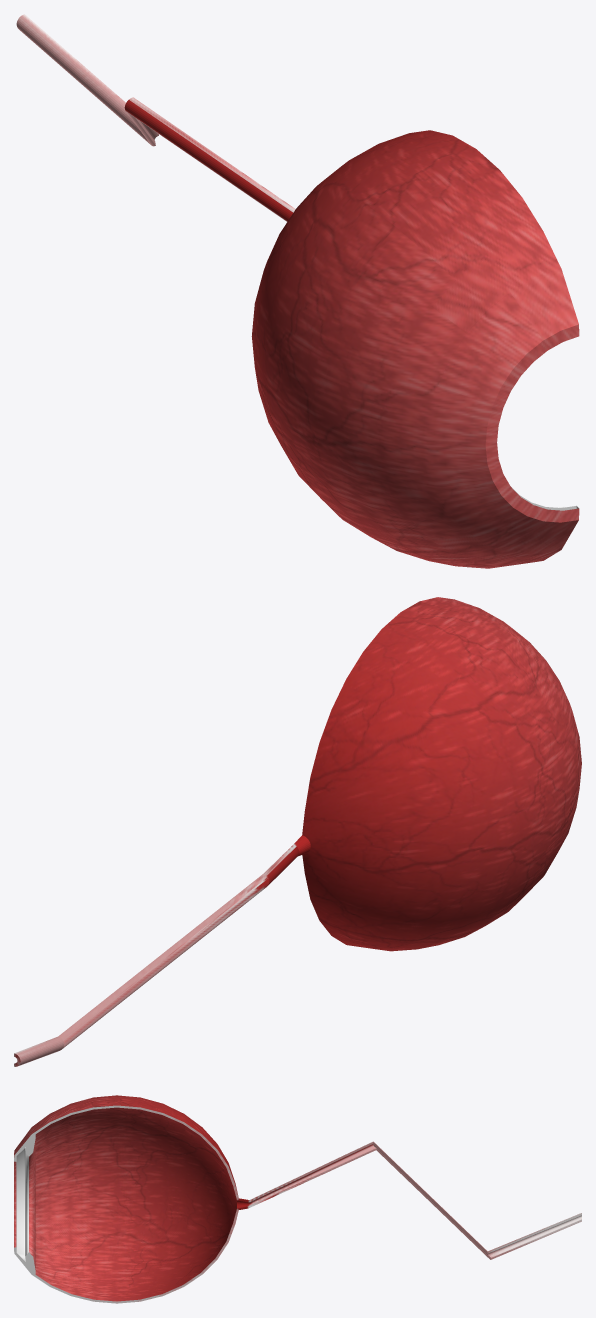
File: Cloroidea_right.FBX
3 renders of one model, top to bottom at view 1: azimuth 30°, elevation 25°; view 2: azimuth 150°, elevation 25°; view 3: azimuth 270°, elevation 25°, orthographic. The views are drawn at different scales.
Parts seen in each view (by area): view 1: ChloroidRight; view 2: ChloroidRight; view 3: ChloroidRight.
Part boxes in pixels (x1,y1,x2,y2): ChloroidRight: (16, 14, 579, 568); ChloroidRight: (14, 597, 581, 1066); ChloroidRight: (14, 1095, 581, 1303).
Bounding box in the file's own units: 1.45 × 2.26 × 5.88.
1 material, 1 textured.
